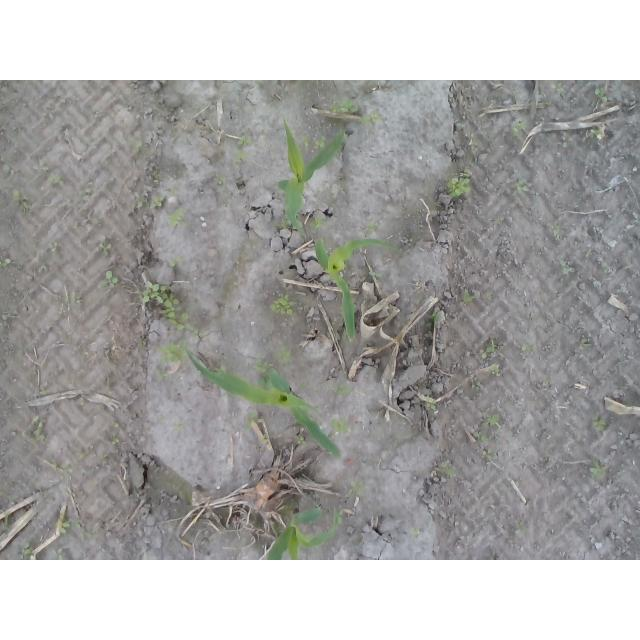Maize: (184, 347, 344, 458), (316, 235, 405, 342), (280, 116, 344, 241), (257, 501, 341, 560)
Weeds: (136, 280, 200, 337), (158, 341, 191, 366), (448, 169, 473, 200), (55, 513, 82, 536), (135, 191, 166, 210), (271, 295, 298, 316), (28, 414, 46, 442), (12, 191, 33, 214), (329, 99, 359, 114), (48, 462, 73, 479), (97, 271, 119, 289), (359, 112, 385, 127), (309, 216, 331, 233), (329, 416, 351, 433), (167, 207, 186, 226), (276, 344, 296, 362), (592, 87, 609, 108), (590, 464, 611, 481), (17, 538, 33, 560), (242, 412, 258, 433), (234, 145, 254, 161), (510, 119, 526, 138), (479, 343, 497, 359), (550, 80, 567, 96), (426, 312, 442, 329), (351, 479, 366, 497), (593, 415, 608, 433), (559, 259, 576, 274), (169, 256, 184, 272), (0, 515, 12, 535), (560, 133, 576, 148), (99, 240, 113, 257), (48, 175, 65, 189), (579, 337, 594, 352), (462, 288, 476, 304), (440, 464, 457, 477), (334, 384, 352, 396), (255, 360, 273, 372), (313, 135, 327, 150), (480, 448, 496, 461), (516, 176, 529, 192), (294, 436, 309, 449), (474, 431, 493, 441), (48, 241, 61, 255), (52, 546, 65, 560), (488, 364, 502, 377), (80, 528, 95, 540), (368, 270, 385, 280), (0, 256, 14, 268), (514, 519, 526, 533), (239, 135, 253, 146), (75, 451, 89, 462), (552, 224, 561, 241), (366, 223, 380, 233), (67, 296, 82, 305), (485, 415, 497, 426), (410, 527, 423, 537), (427, 400, 437, 413), (277, 219, 288, 230), (600, 262, 609, 275), (336, 511, 344, 525), (135, 140, 143, 154), (589, 127, 599, 138), (520, 344, 532, 353), (494, 216, 505, 225), (214, 176, 225, 185), (471, 382, 482, 391), (303, 136, 310, 149), (159, 372, 169, 381), (175, 424, 184, 433), (78, 191, 86, 201), (215, 367, 226, 374), (325, 450, 333, 457), (263, 432, 269, 440), (299, 383, 306, 389), (608, 184, 613, 192)
